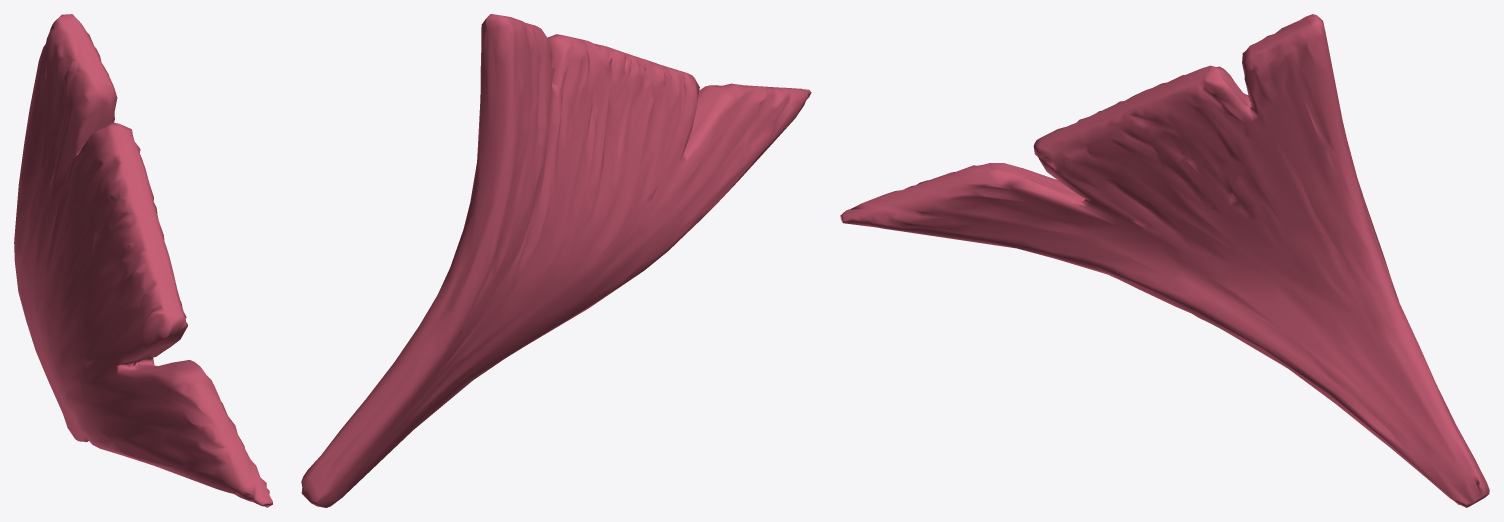
The picture shows the model from 3 angles, left to right: view 1: azimuth 30°, elevation 25°; view 2: azimuth 150°, elevation 25°; view 3: azimuth 270°, elevation 25°; orthographic projection. The views are drawn at different scales.
Visible parts, largest first — view 1: 右侧甲会厌肌; view 2: 右侧甲会厌肌; view 3: 右侧甲会厌肌.
Boxes of the visible parts, x1,y1,x2,y2 form: 右侧甲会厌肌: (14,14,272,507); 右侧甲会厌肌: (301,14,811,507); 右侧甲会厌肌: (840,14,1489,507).
Size of the model in its own units: 0.0125 by 0.0277 by 0.0367.
